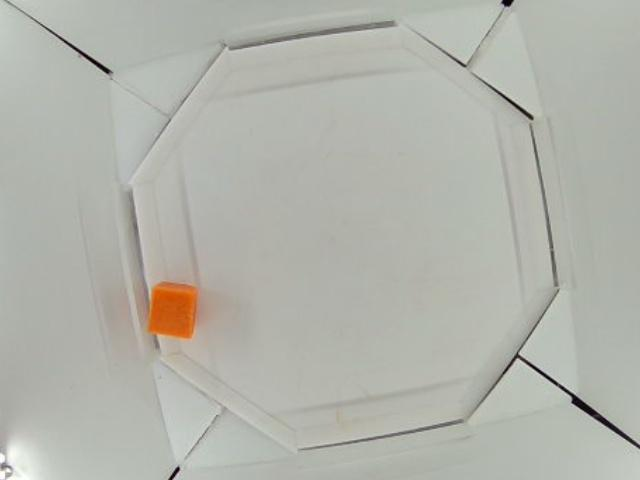Carrot: (144, 283, 200, 339)
